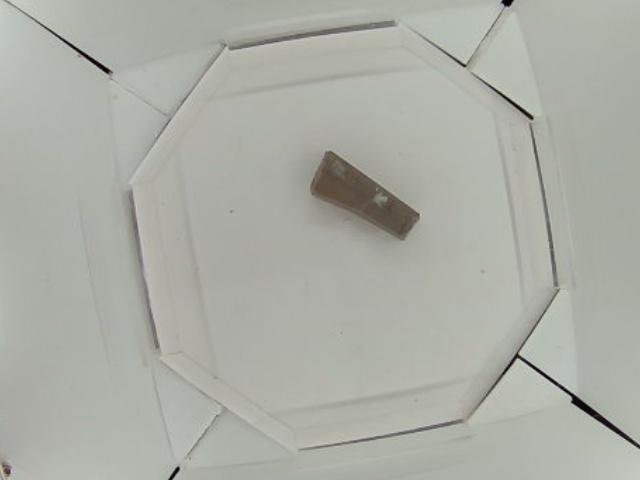China: (312, 149, 423, 241)
